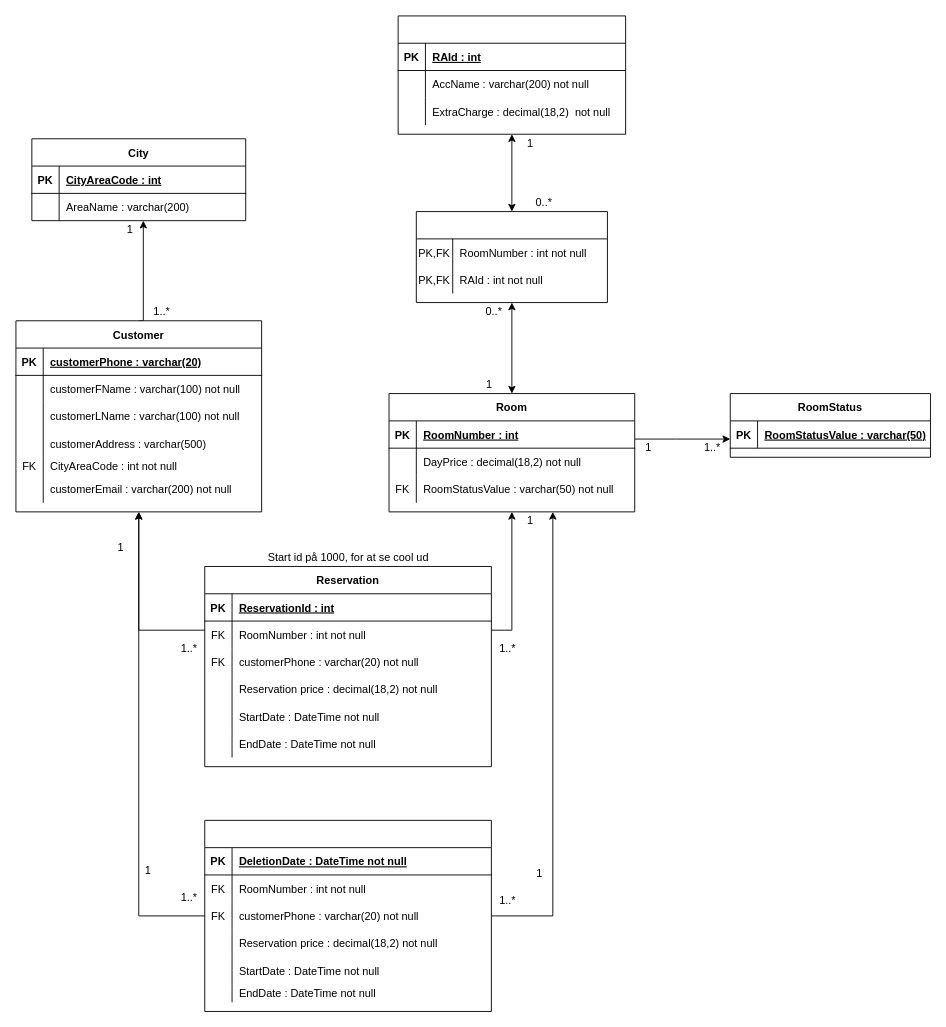
Image size: 946x1027. Some labels were removed from this diagram. Each missing label, with the box of its shape:
FinishedReservationLog: (204, 819, 491, 1011)
RoomAccessory: (397, 15, 626, 134)
RoomAccessoryList: (415, 211, 607, 303)
